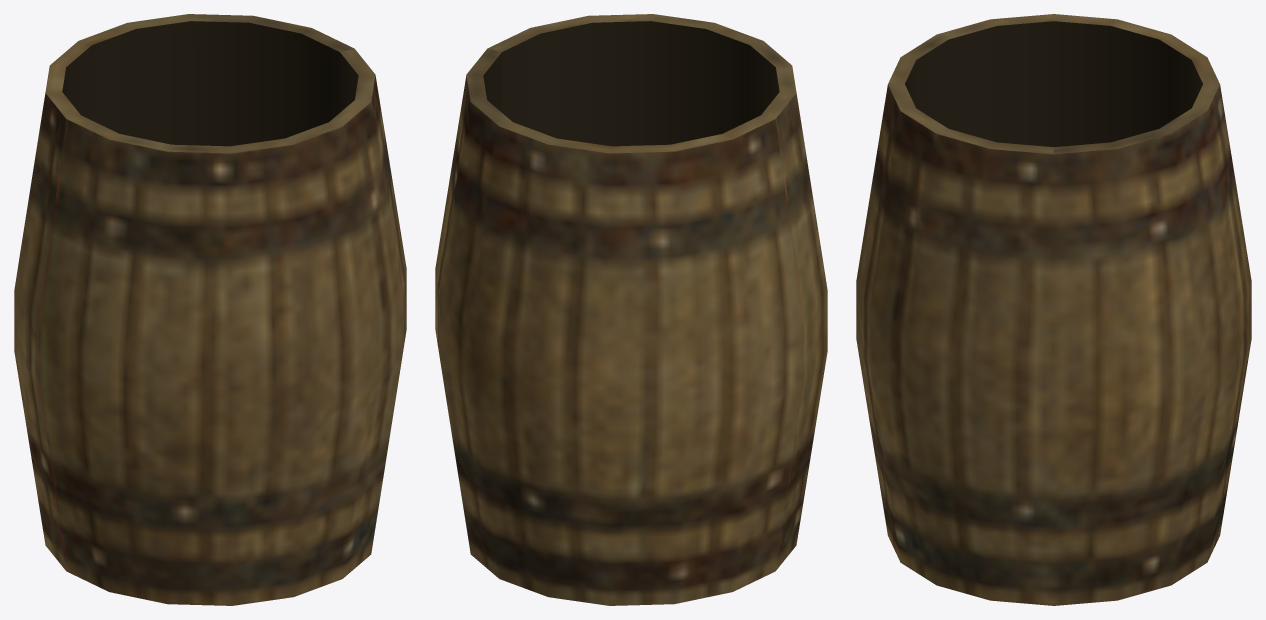
3 renders of one model, left to right at view 1: azimuth 30°, elevation 25°; view 2: azimuth 150°, elevation 25°; view 3: azimuth 270°, elevation 25°, orthographic.
Parts seen in each view (by area): view 1: BarrelOpen; view 2: BarrelOpen; view 3: BarrelOpen.
Part boxes in pixels (x1=…): BarrelOpen: x1=14, y1=14, x2=406, y2=605; BarrelOpen: x1=435, y1=14, x2=827, y2=605; BarrelOpen: x1=856, y1=14, x2=1251, y2=605.
Size of what is drawn, in the model's own units: 0.932 by 1.18 by 0.932.
Materials: 1 (1 with a texture image).
